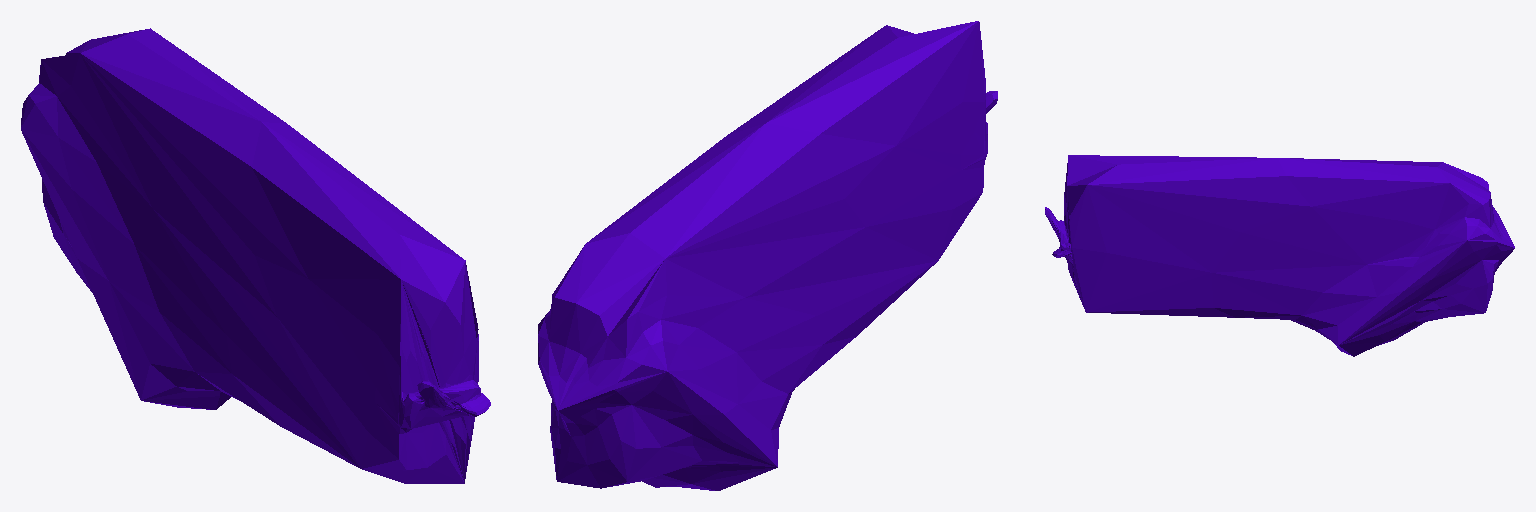
The robot description file, URDF, robot "blob327":

<robot name="blob327">
  <link name="random_obj_327">
    <contact>
      <lateral_friction value="1.0"/>
      <rolling_friction value="0.0"/>
      <inertia_scaling value="3.0"/>
      <contact_cfm value="0.0"/>
      <contact_erp value="1.0"/>
    </contact>
    <inertial>
      <origin rpy="0 0 0" xyz="0 0 0"/>
      <mass value="0.0540"/>
      <inertia ixx="1" ixy="0" ixz="0" iyy="1" iyz="0" izz="0"/>
    </inertial>
    <visual>
      <origin rpy="0 0 0" xyz="0 0 0"/>
      <geometry>
        <mesh filename="327.obj" scale="0.0075 0.0075 0.0075"/>
      </geometry>
      <material name="blockmat">
        <color rgba="0.36 0.04 0.80 1"/>
      </material>
    </visual>
    <collision>
      <origin rpy="0 0 0" xyz="0 0 0"/>
      <geometry>
        <mesh filename="327_coll.obj" scale="0.0075 0.0075 0.0075"/>
      </geometry>
    </collision>
  </link>
</robot>

--- What the picture shows (computed from the rendered views, not written in the file) ---
3 views of the same robot in one strip: view 1: azimuth 30°, elevation 25°; view 2: azimuth 150°, elevation 25°; view 3: azimuth 270°, elevation 25° (orthographic).
Model blob327 with 1 links and 0 joints (none), rooted at random_obj_327, posed all joints at 0.
Links seen in each view (by area): view 1: random_obj_327; view 2: random_obj_327; view 3: random_obj_327.
Link boxes in pixels (x1,y1,x2,y2): random_obj_327: (21, 28, 490, 483); random_obj_327: (538, 21, 997, 490); random_obj_327: (1045, 155, 1514, 356).
Size in the robot's own frame: 0.021 by 0.102 by 0.0456 metres.
1 mesh visuals loaded from 1 distinct referenced files (1 OBJ).
